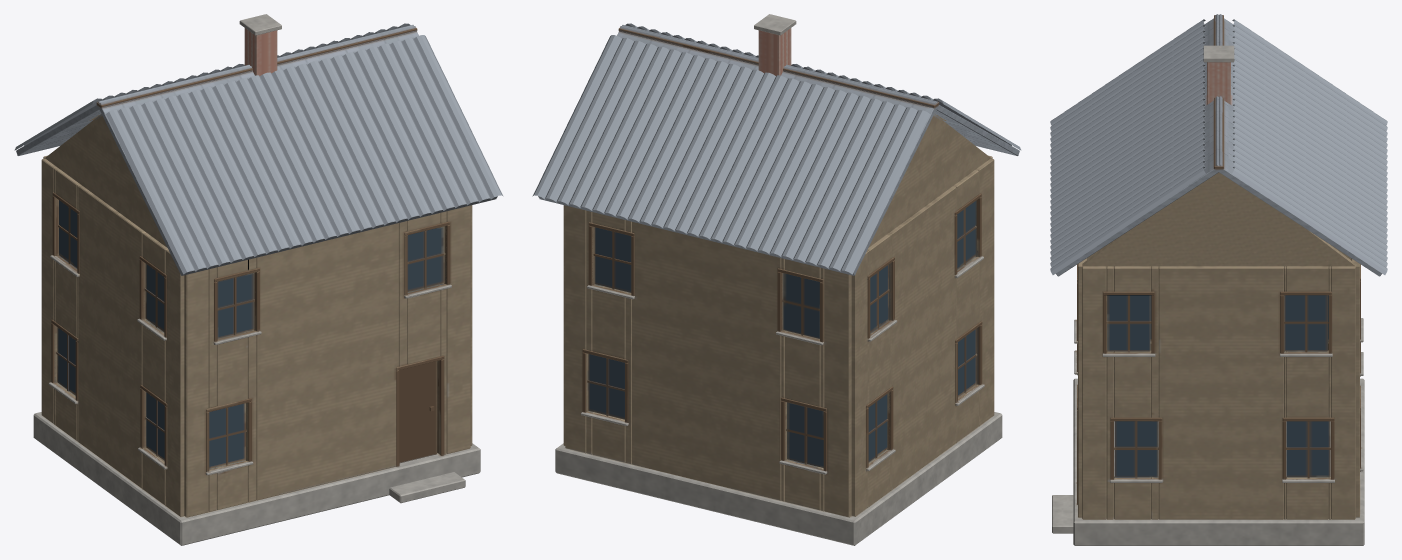
Rendered from house_default.glb.
3 renders of one model, left to right at view 1: azimuth 30°, elevation 25°; view 2: azimuth 150°, elevation 25°; view 3: azimuth 270°, elevation 25°, orthographic.
Parts seen in each view (by area): view 1: house_default; view 2: house_default; view 3: house_default.
Part boxes in pixels (x1,y1,x2,y2): house_default: (16, 14, 497, 545); house_default: (538, 14, 1019, 545); house_default: (1052, 14, 1381, 545).
Bounding box in the file's own units: 7.31 × 9.43 × 6.8.
2 materials, 1 textured.
